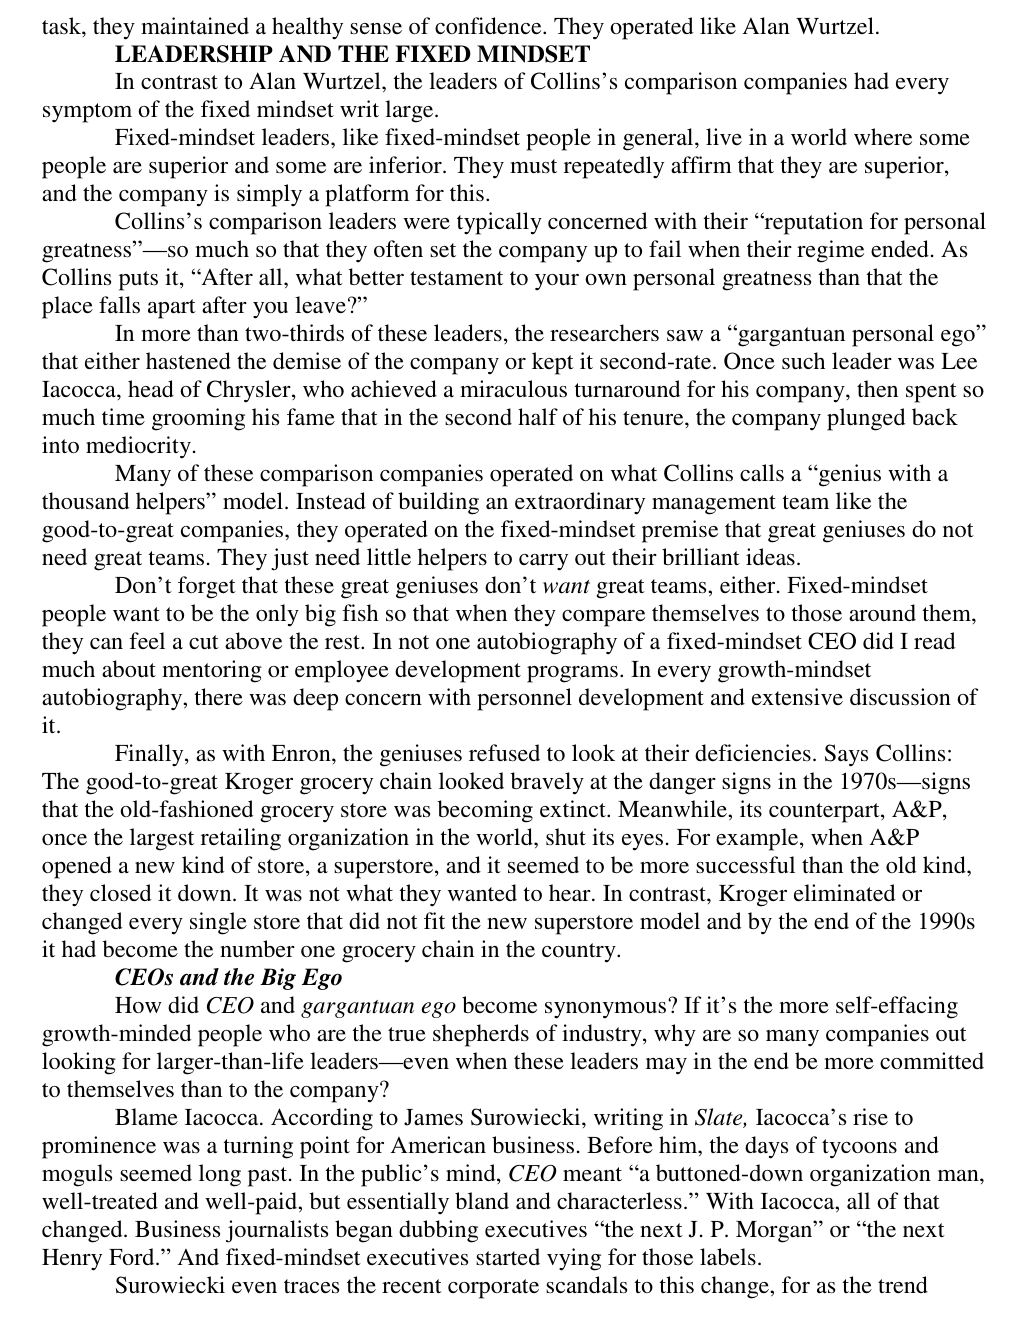latin: (40, 210, 988, 458), (27, 743, 977, 962), (39, 1104, 984, 1299), (37, 17, 972, 210), (33, 571, 979, 744), (36, 458, 976, 571), (34, 993, 985, 1103), (113, 962, 341, 995)
